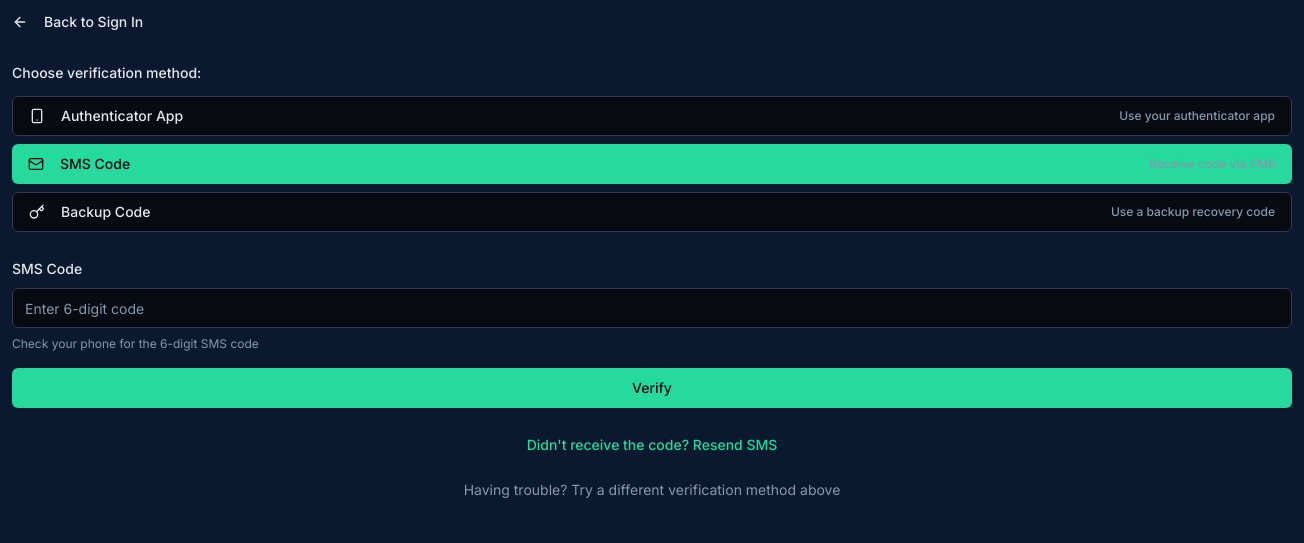
it: TwoFactorForm › SMS Verification › should validate SMS code format
The width and height of the screenshot is (1304, 543).
# Test invalid code
Type "abc" into the field labelled "SMS Code" at (652,308), box [12,288,1292,328]
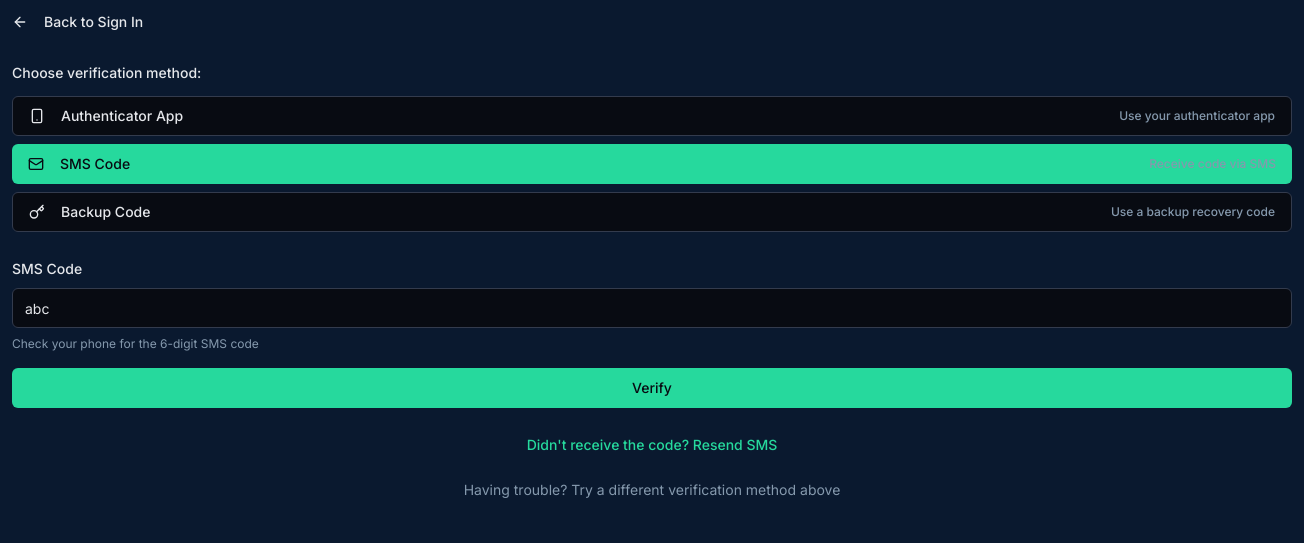
Click the button "Verify" at (652,388), box [12,368,1292,408]
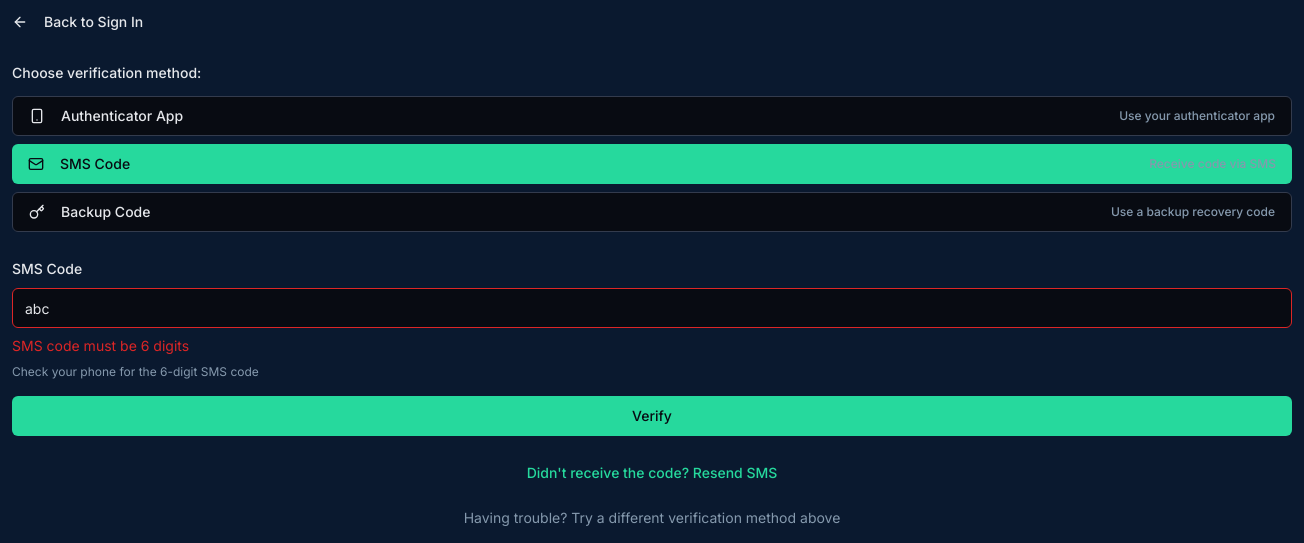
Expected: the text "SMS code must be 6 digits" is shown, [12,337,189,354]
